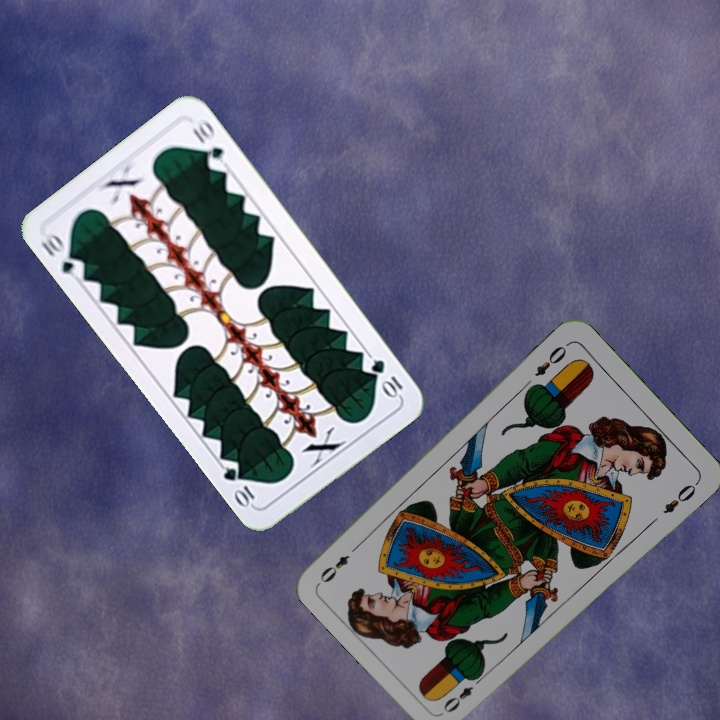EO: (439, 670, 487, 716), (530, 338, 573, 379)
G10: (36, 229, 88, 282), (367, 355, 406, 401)
